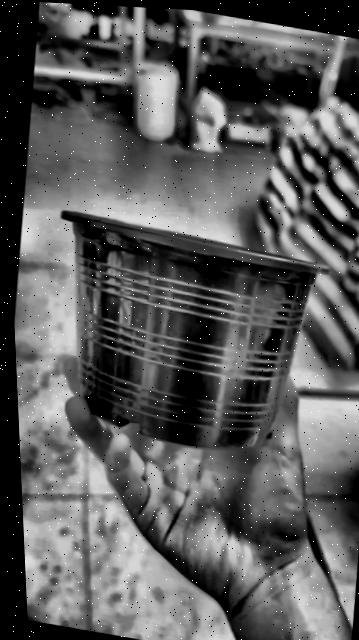pot: (61, 210, 326, 448)
